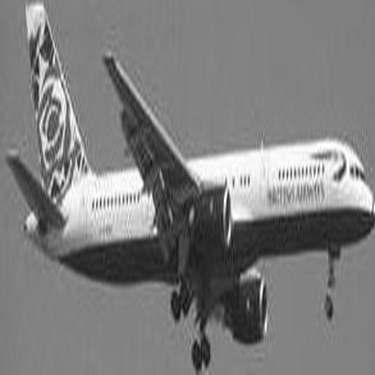airplane: (5, 4, 369, 371)
